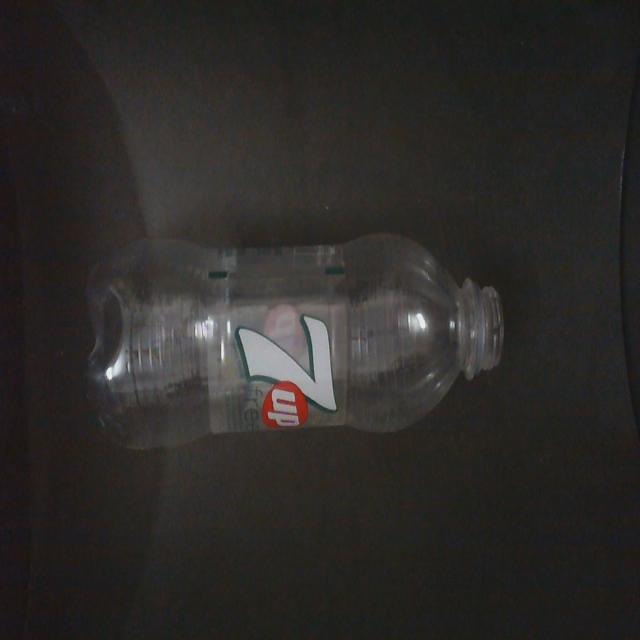non-defect: (82, 228, 507, 458)
